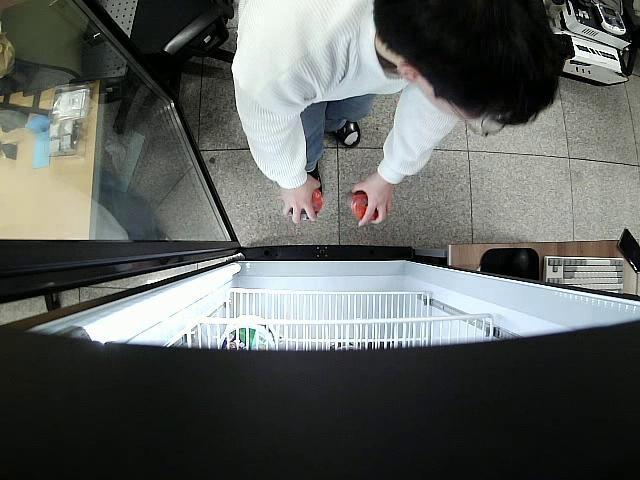02_shinRamen_S: (288, 186, 322, 220), (343, 190, 378, 220)
